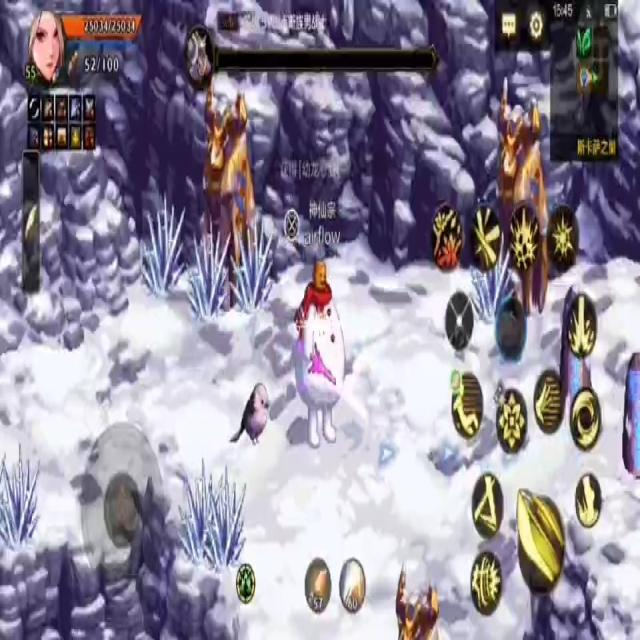player: (291, 258, 345, 449)
